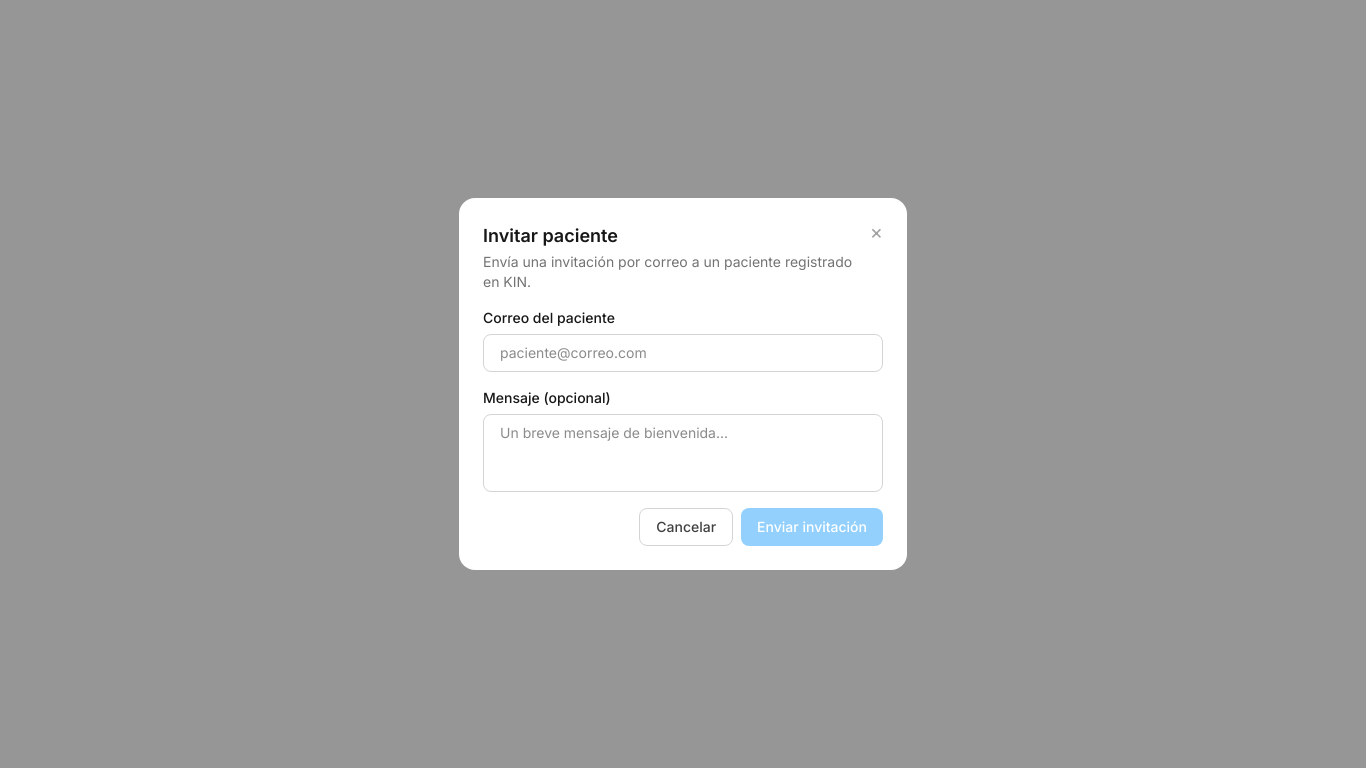
Scenario: InvitePatientModal › invita al paciente por email y notifica
Type "paciente@kin.com" into the field labelled "Correo del paciente" at (683, 353), box [483, 334, 883, 372]
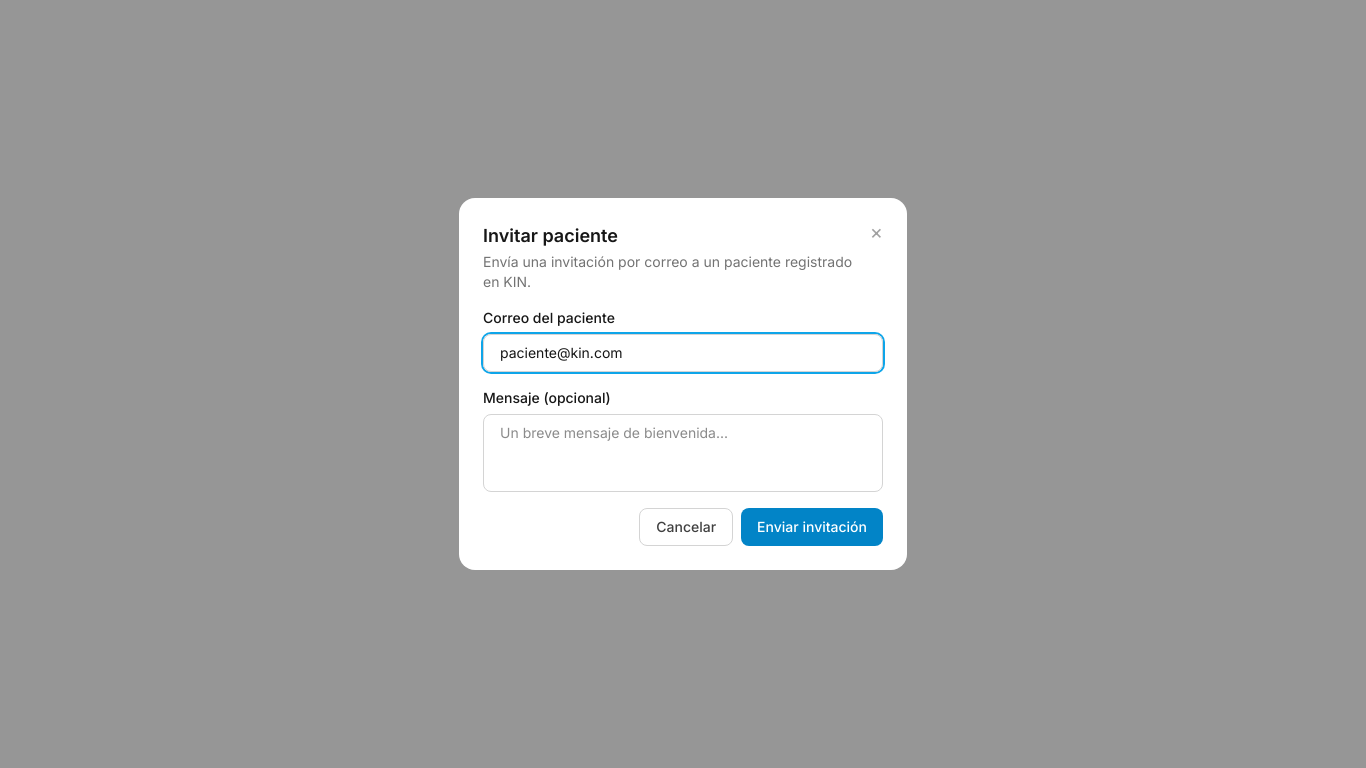
Click the button "Enviar invitación" at (812, 527), box [741, 508, 883, 546]
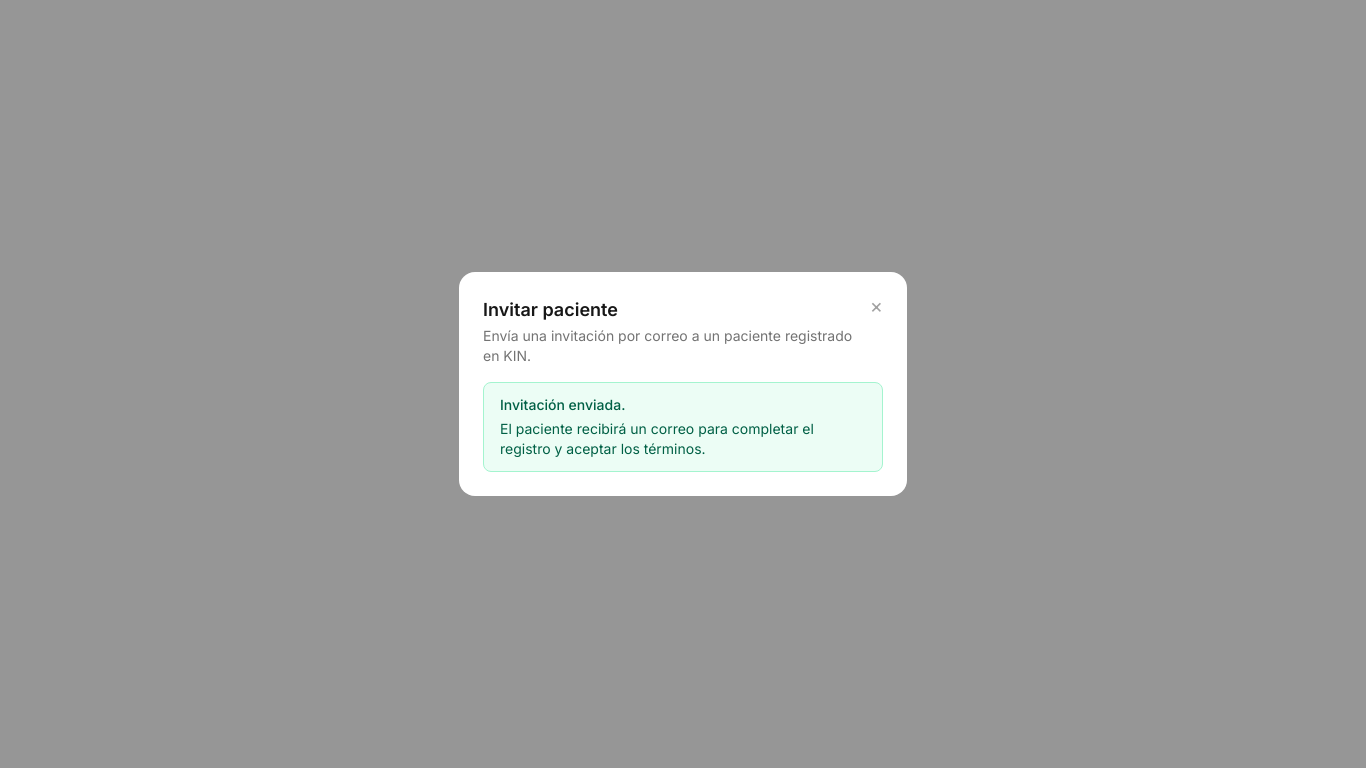
Expected: the text "Invitación enviada." is shown, [500, 396, 625, 413]
